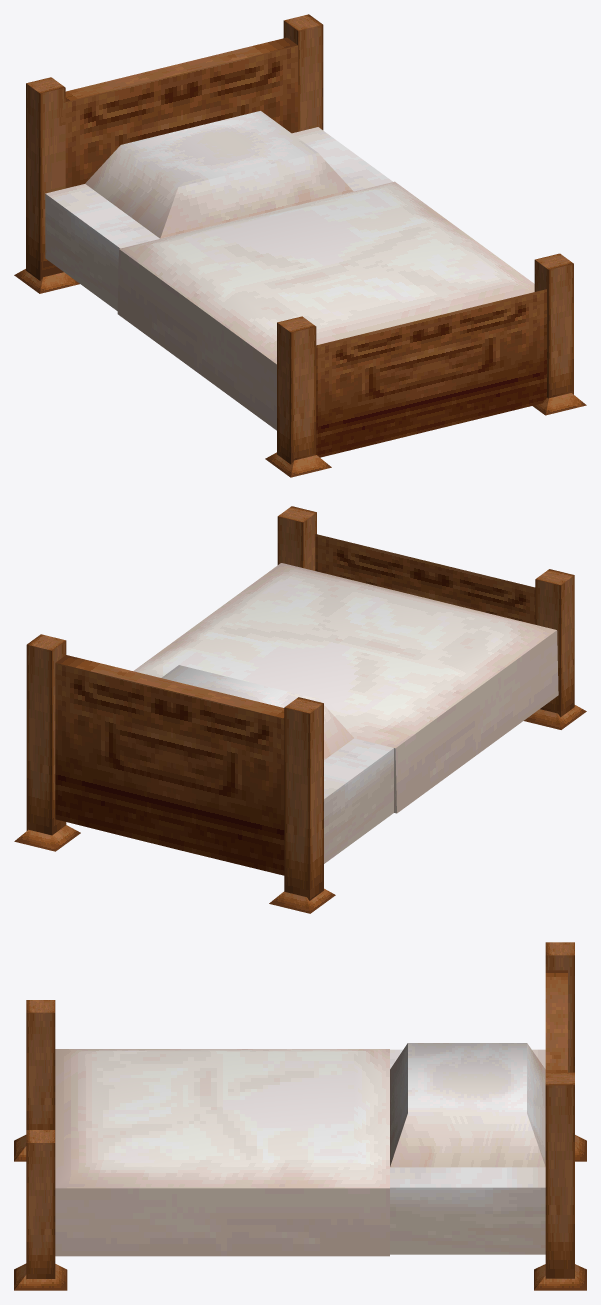
Rendered from Western Bed.obj.
3 renders of one model, top to bottom at view 1: azimuth 30°, elevation 25°; view 2: azimuth 150°, elevation 25°; view 3: azimuth 270°, elevation 25°, orthographic. The views are drawn at different scales.
Visible parts, largest first — view 1: polygon1.164, polygon0.167, polygon2.136, polygon3.098; view 2: polygon1.164, polygon0.167, polygon3.098, polygon2.136; view 3: polygon1.164, polygon2.136, polygon3.098.
Boxes of the visible parts, left/top/right/bottom form: polygon1.164: left=117, top=181, right=534, bottom=430; polygon0.167: left=65, top=45, right=546, bottom=457; polygon2.136: left=45, top=111, right=392, bottom=310; polygon3.098: left=14, top=14, right=586, bottom=477; polygon1.164: left=133, top=563, right=558, bottom=813; polygon0.167: left=55, top=534, right=535, bottom=875; polygon3.098: left=14, top=506, right=586, bottom=913; polygon2.136: left=161, top=665, right=396, bottom=863; polygon1.164: left=55, top=1049, right=389, bottom=1256; polygon2.136: left=390, top=1043, right=545, bottom=1254; polygon3.098: left=14, top=942, right=586, bottom=1290.
Size of the model in its own units: 3.98 by 2.5 by 6.44.
Materials: 4 (4 with a texture image).
